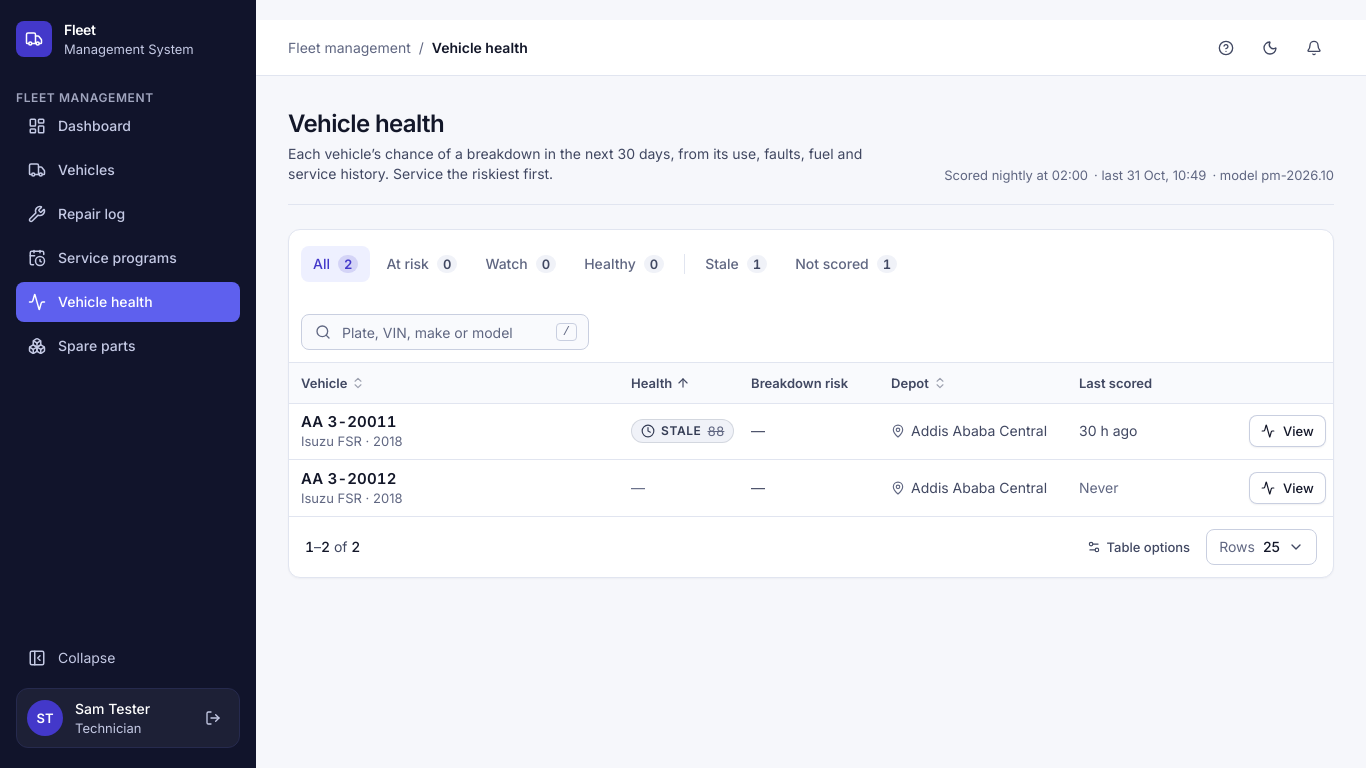
Test case: Vehicle health (S-19) › a stale score says so; a vehicle never scored says it is not scored yet
Click the text "AA 3-20011": (349, 422) [301,412,396,431]
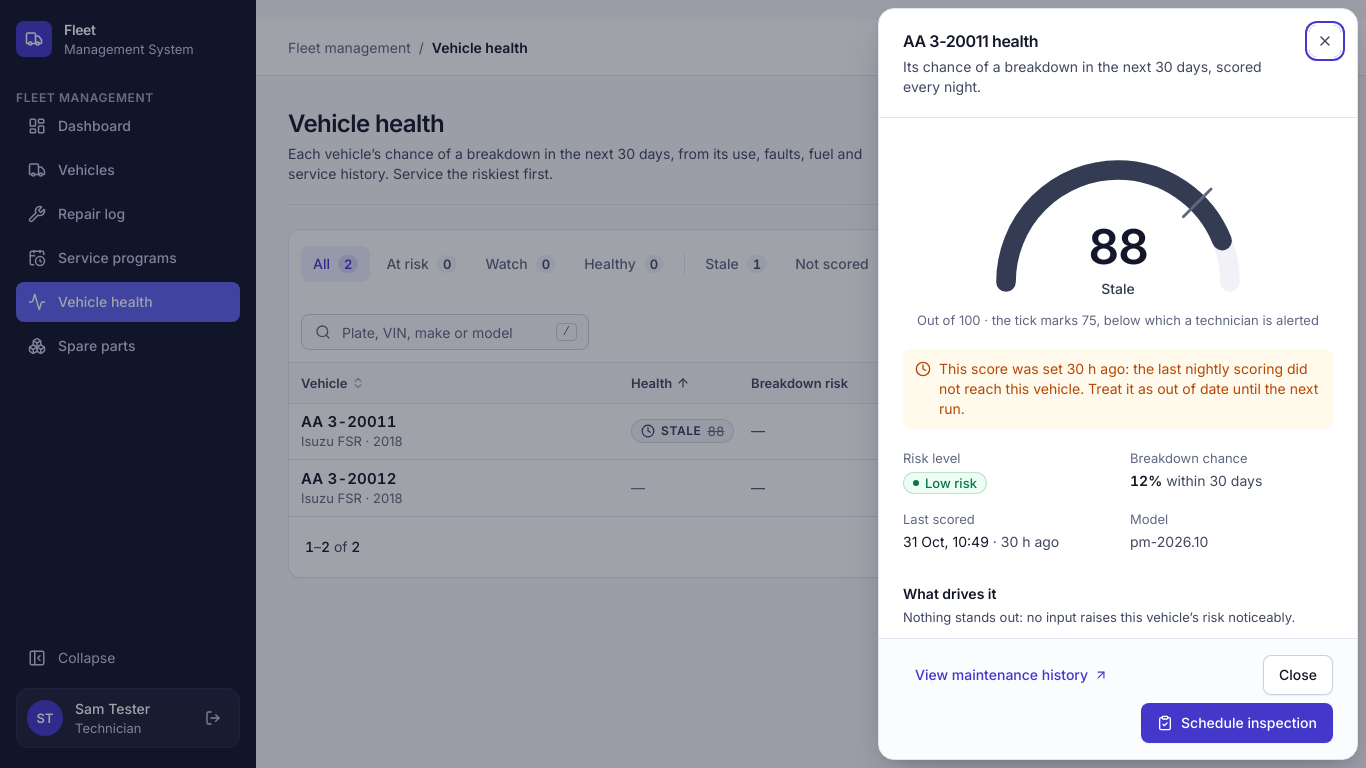
Now the text "the last nightly scoring did not reach this vehicle" is shown, box [939,360,1318,417]
Now the picture named "stale" is shown, box [978,142,1258,299]
Now the text "Nothing stands out" is shown, box [903,609,1295,625]
Press Escape
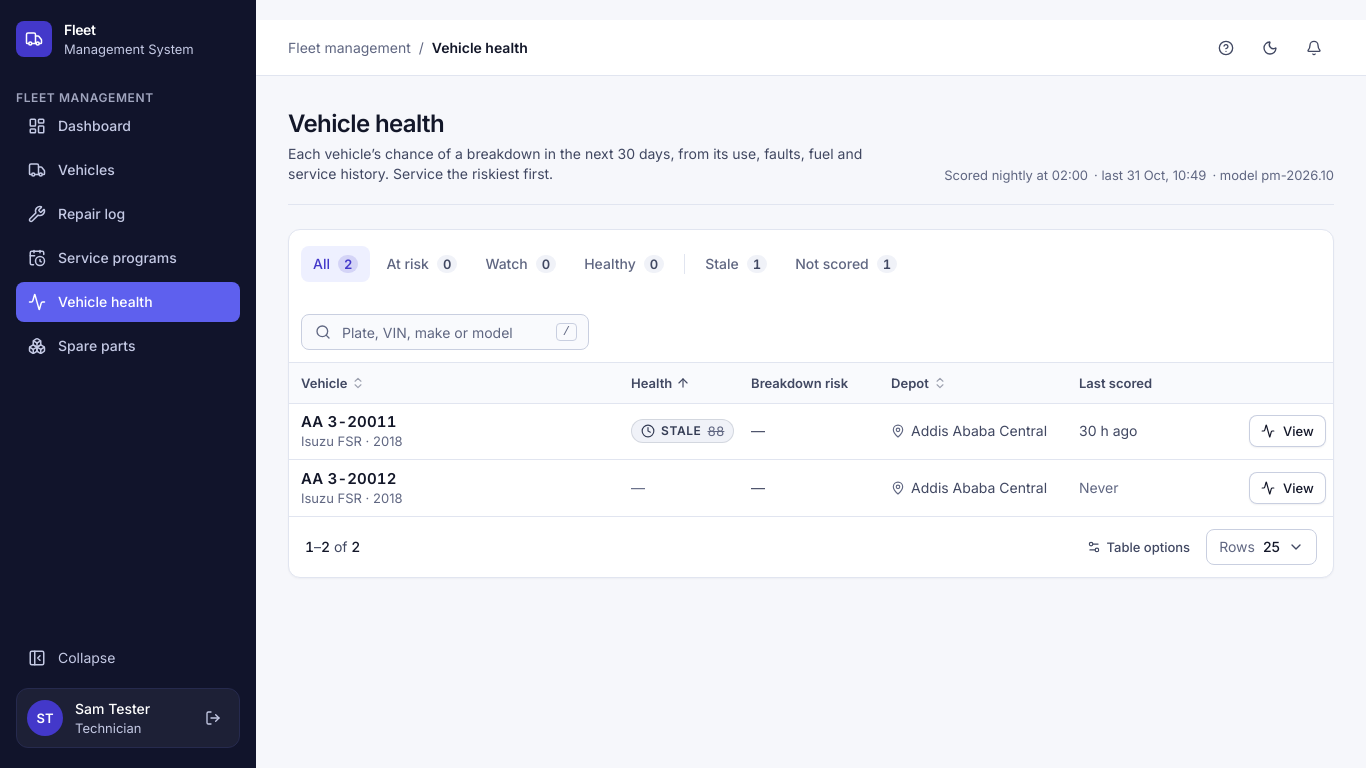
Click the text "AA 3-20012": (349, 478) [301,469,396,488]
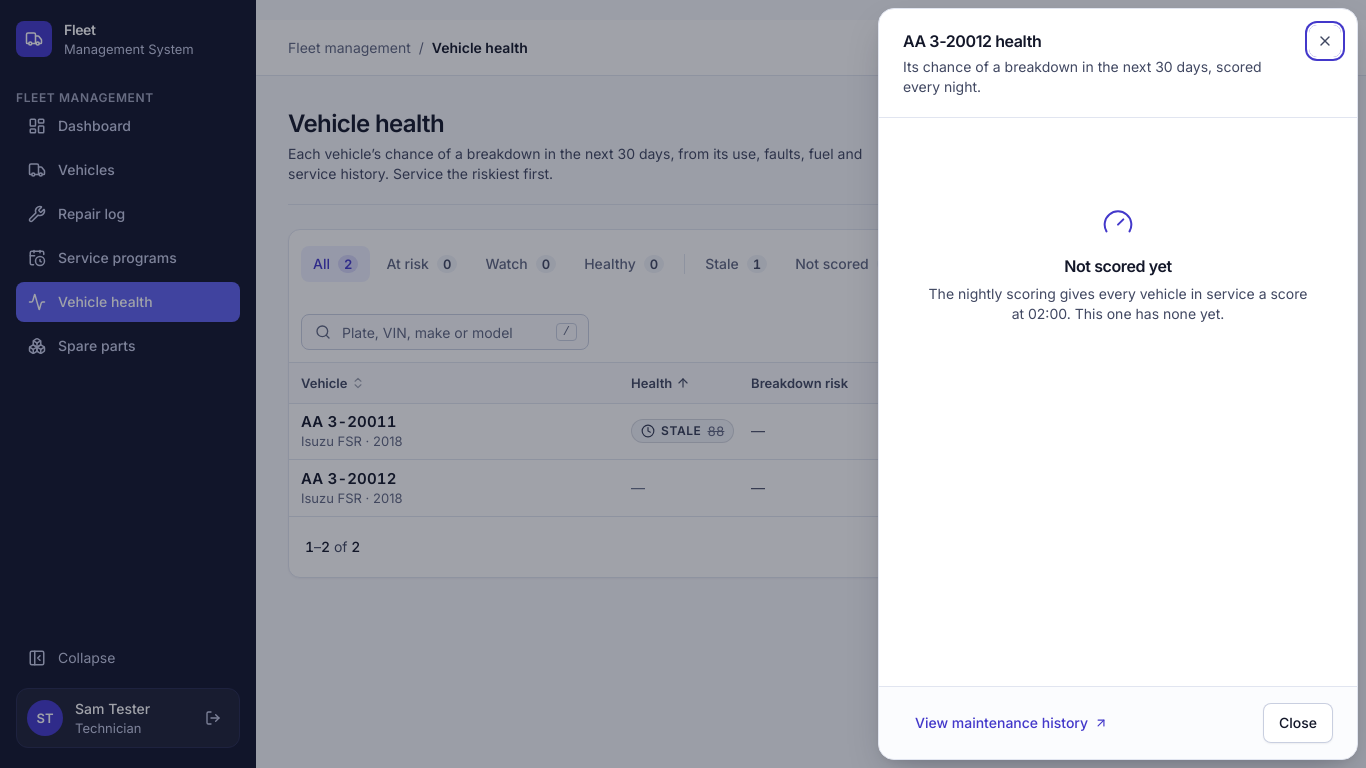
Expected: the button "Schedule inspection" is not shown
Now the heading "Not scored yet" is shown, box [1064,254,1172,278]
